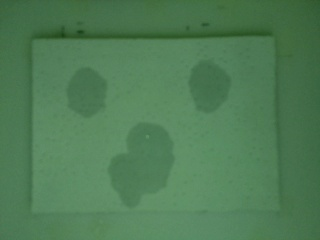Water_detected: (120, 129, 167, 195), (192, 72, 222, 109), (75, 83, 106, 114)
